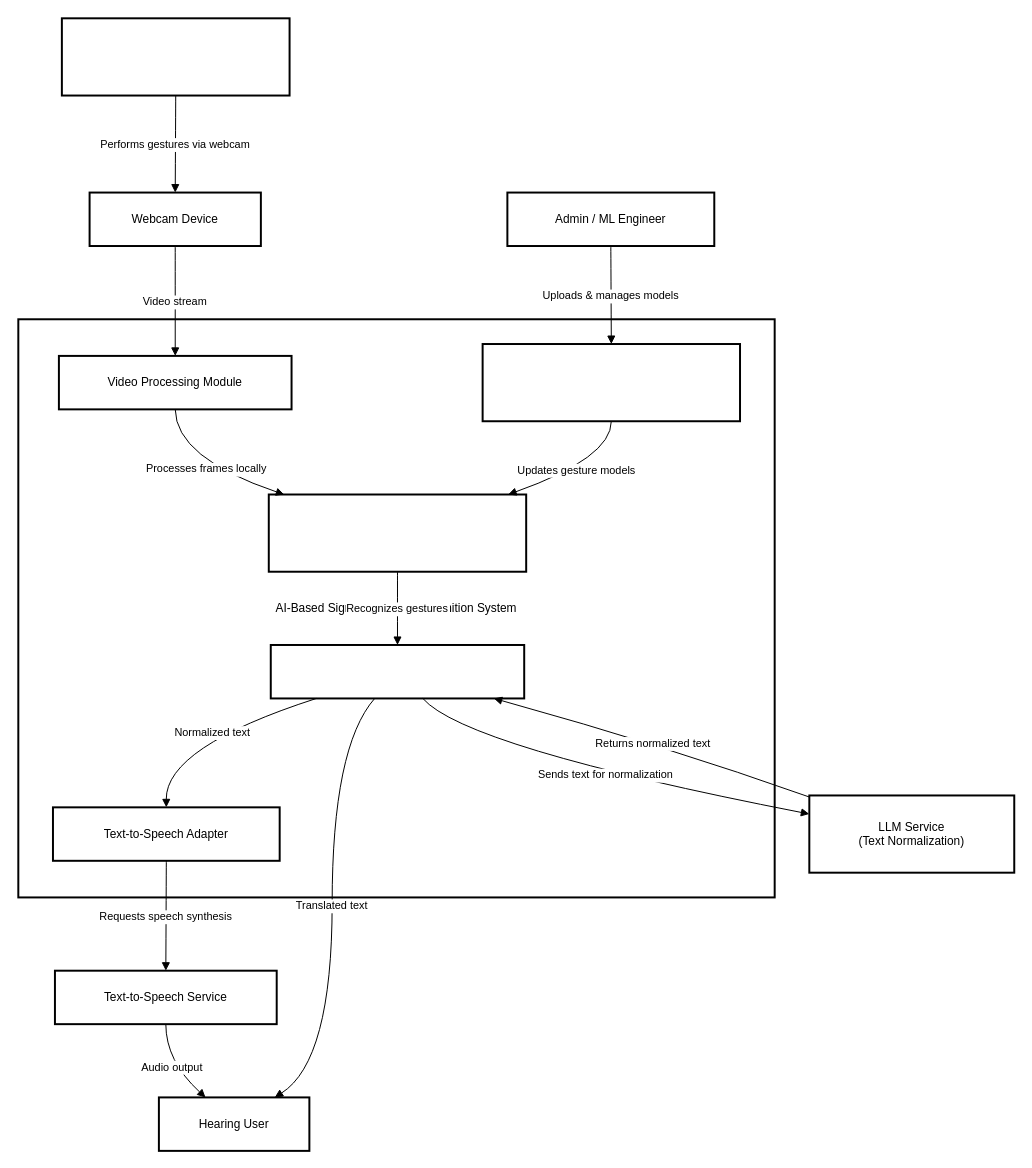
Some shapes in this 1032 by 1168 pixel diagram are drawn without their labels. Here are the shapes that lost their labels. From the top down, the centre of each, then its label:
At (x=175, y=56): "Deaf Signer (Russian Sign Language)".
At (x=611, y=382): "Model Registry & Management".
At (x=397, y=532): "Sign Language Recognition Engine".
At (x=397, y=671): "Text Normalization Adapter".
